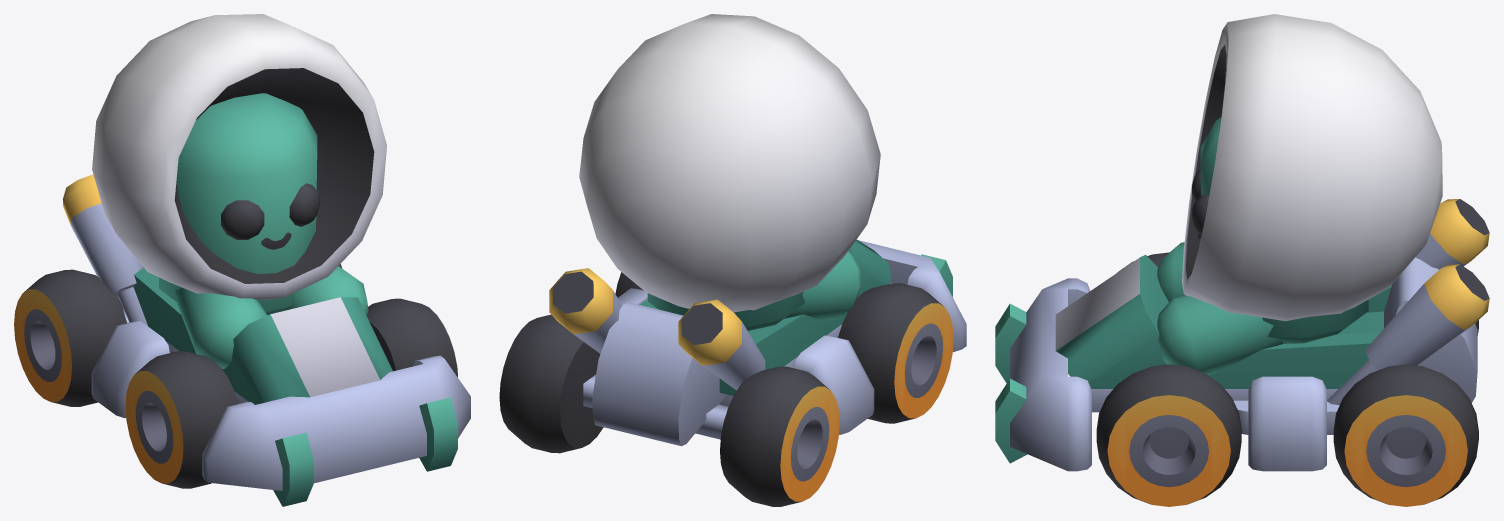
File: kart-oopi.glb
The picture shows the model from 3 angles, left to right: view 1: azimuth 30°, elevation 25°; view 2: azimuth 150°, elevation 25°; view 3: azimuth 270°, elevation 25°; orthographic projection. The views are drawn at different scales.
Visible parts, largest first — view 1: character, kart-oopi, wheel-back-right, wheel-front-right, wheel-front-left; view 2: character, kart-oopi, wheel-back-right, wheel-front-right, wheel-back-left; view 3: character, kart-oopi, wheel-front-left, wheel-back-left.
Boxes of the visible parts, x1=… form: character: x1=92, y1=14, x2=386, y2=368; kart-oopi: x1=63, y1=174, x2=470, y2=506; wheel-back-right: x1=14, y1=269, x2=126, y2=406; wheel-front-right: x1=125, y1=351, x2=238, y2=488; wheel-front-left: x1=366, y1=298, x2=457, y2=377; character: x1=579, y1=14, x2=880, y2=330; kart-oopi: x1=549, y1=239, x2=966, y2=446; wheel-back-right: x1=720, y1=366, x2=839, y2=506; wheel-front-right: x1=838, y1=283, x2=953, y2=423; wheel-back-left: x1=499, y1=314, x2=603, y2=453; character: x1=1157, y1=14, x2=1442, y2=375; kart-oopi: x1=995, y1=199, x2=1489, y2=471; wheel-front-left: x1=1096, y1=364, x2=1241, y2=506; wheel-back-left: x1=1333, y1=364, x2=1478, y2=506.
Bounding box in the file's own units: 0.9743 × 1.33 × 1.43.
1 material, 1 textured.
